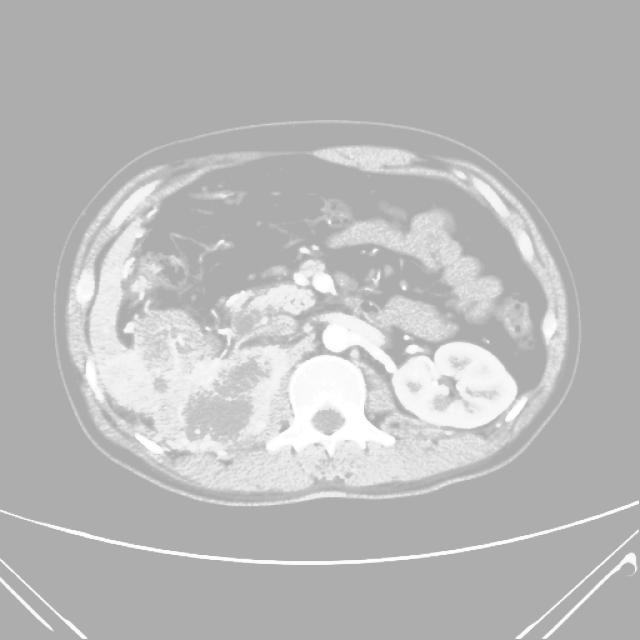TUMOR: (127, 179, 629, 388)
